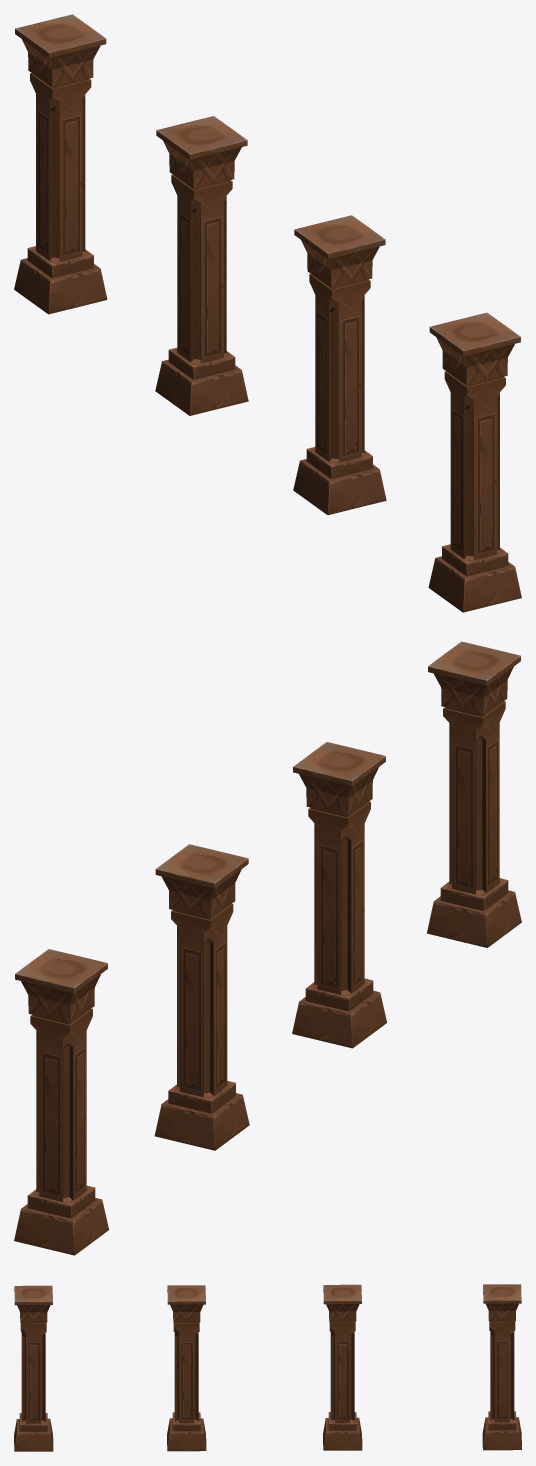
Rendered from Area_04_2.fbx.
3 views of the same model, one above another, from view 1: azimuth 30°, elevation 25°; view 2: azimuth 150°, elevation 25°; view 3: azimuth 270°, elevation 25° (orthographic). The views are drawn at different scales.
Visible parts, largest first — view 1: Area_04_2; view 2: Area_04_2; view 3: Area_04_2.
Boxes of the visible parts, x1,y1,x2,y2 form: Area_04_2: (14,14,521,612); Area_04_2: (14,641,521,1255); Area_04_2: (14,1284,521,1451).
Bounding box in the file's own units: 485 × 1865 × 5741.
